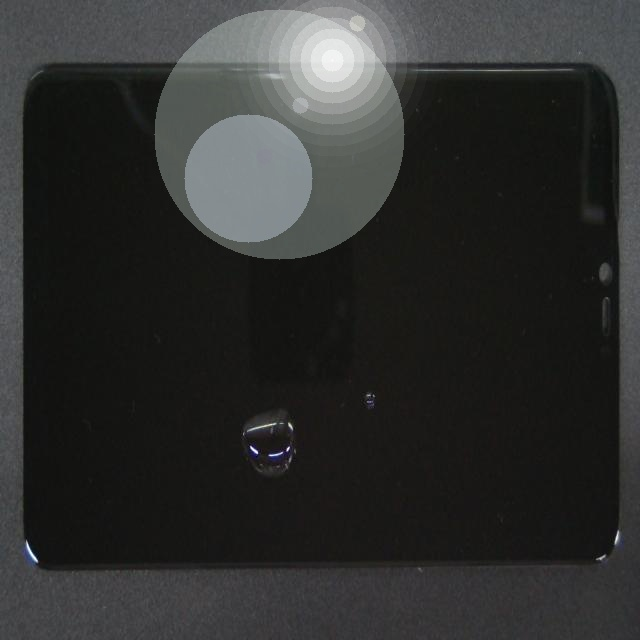oil: (118, 201, 364, 640)
